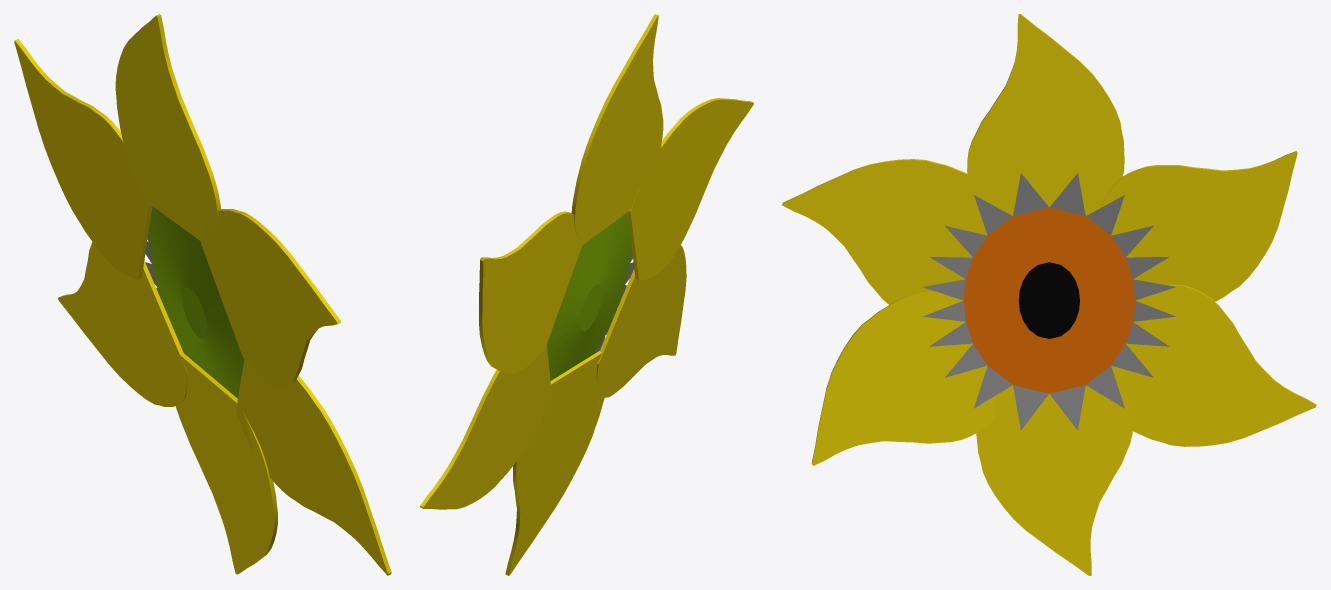
Rendered from flowerBud.fbx.
3 renders of one model, left to right at view 1: azimuth 30°, elevation 25°; view 2: azimuth 150°, elevation 25°; view 3: azimuth 270°, elevation 25°, orthographic. The views are drawn at different scales.
Visible parts, largest first — view 1: petal5, petal1, petal, petal4, petal3, petal2, bud; view 2: petal, petal1, petal5, petal3, petal2, bud, petal4; view 3: bud, petal4, petal, petal2, petal1, petal3, petal5.
Boxes of the visible parts, <box> form: petal5: <box>200,209,341,388</box>; petal1: <box>14,39,152,279</box>; petal: <box>115,14,220,241</box>; petal4: <box>235,359,391,575</box>; petal3: <box>176,353,277,574</box>; petal2: <box>58,242,187,406</box>; bud: <box>145,206,244,398</box>; petal: <box>571,14,663,245</box>; petal1: <box>479,211,581,373</box>; petal5: <box>627,98,753,279</box>; petal3: <box>505,351,608,575</box>; petal2: <box>420,344,551,509</box>; bud: <box>547,213,634,380</box>; petal4: <box>596,245,686,397</box>; bud: <box>923,173,1175,430</box>; petal4: <box>811,292,995,465</box>; petal: <box>967,14,1124,215</box>; petal2: <box>1111,284,1316,446</box>; petal1: <box>1100,151,1297,301</box>; petal3: <box>976,383,1133,575</box>; petal5: <box>782,159,990,304</box>.
Size of the model in its own units: 0.0571 by 0.268 by 0.2533.
